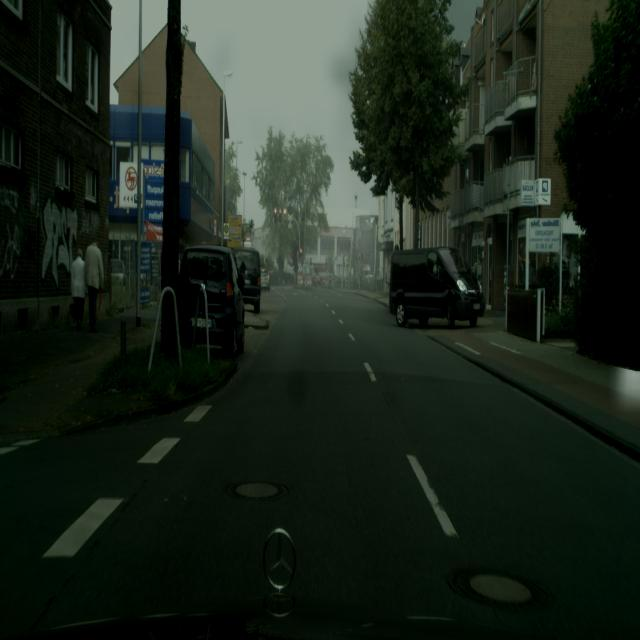person: (84, 236, 104, 333), (71, 245, 86, 331)
train: (388, 245, 485, 329)
truck: (388, 245, 485, 329), (178, 244, 245, 360), (233, 248, 261, 314), (297, 265, 314, 289), (260, 269, 270, 292)
